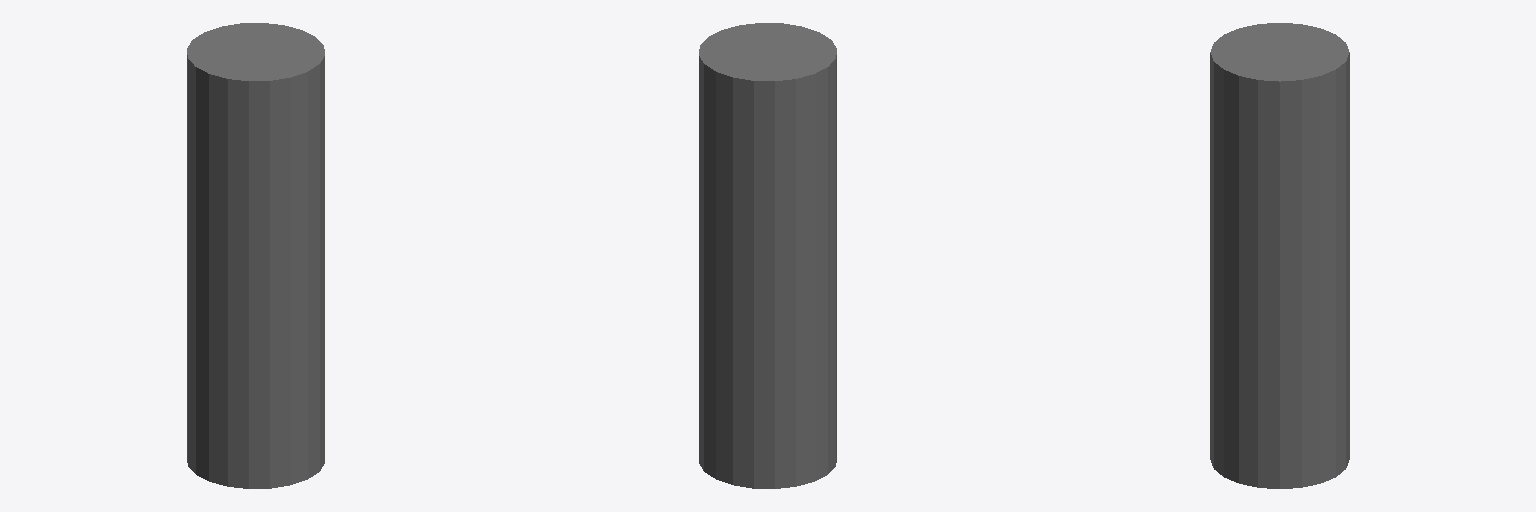
The model's file is ButtEnd.obj.
3 views of the same model, side by side, from view 1: azimuth 30°, elevation 25°; view 2: azimuth 150°, elevation 25°; view 3: azimuth 270°, elevation 25° (orthographic).
Visible parts, largest first — view 1: pCylinder2; view 2: pCylinder2; view 3: pCylinder2.
Boxes of the visible parts, x1,y1,x2,y2 form: pCylinder2: [187, 23, 324, 488]; pCylinder2: [699, 23, 836, 488]; pCylinder2: [1210, 23, 1349, 488].
Size of the model in its own units: 0.2849 by 0.9197 by 0.2849.